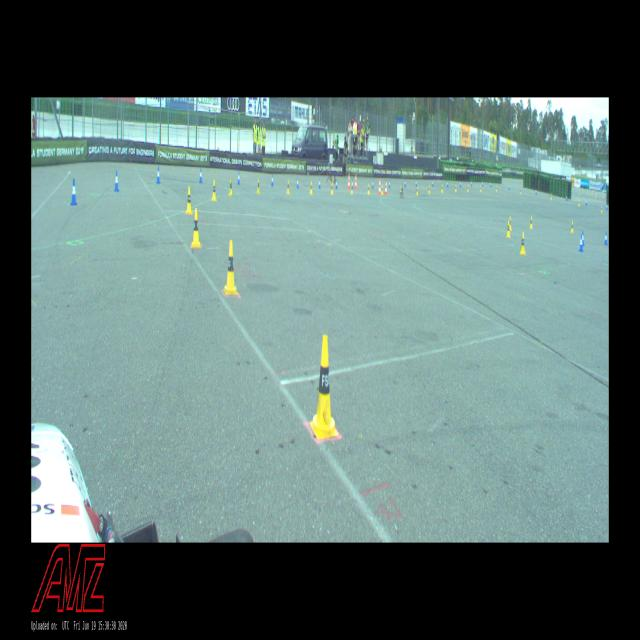blue_cone: (70, 179, 78, 205), (114, 170, 120, 192), (156, 166, 161, 184), (579, 234, 583, 252), (199, 168, 203, 183), (604, 232, 608, 245), (271, 174, 274, 186), (318, 178, 321, 189), (296, 178, 299, 188), (582, 231, 584, 246), (238, 171, 240, 185), (388, 180, 391, 188), (352, 179, 354, 190), (336, 179, 338, 189), (404, 179, 406, 188), (372, 180, 374, 188), (535, 188, 537, 195), (606, 203, 608, 210), (490, 181, 492, 188), (416, 180, 418, 187), (432, 180, 434, 187), (586, 199, 588, 205), (508, 184, 510, 190), (471, 180, 472, 187), (460, 181, 461, 187), (566, 195, 567, 201), (447, 181, 448, 187), (482, 181, 483, 186)
large_orange_cone: (354, 173, 358, 189), (384, 180, 388, 196), (378, 178, 381, 195), (348, 173, 350, 189)
yellow_cone: (310, 335, 338, 438), (223, 240, 238, 295), (191, 208, 201, 248), (185, 187, 192, 214), (520, 232, 526, 254), (211, 180, 217, 201), (229, 178, 233, 196), (506, 221, 510, 238), (286, 180, 290, 194), (529, 216, 533, 229), (257, 178, 260, 194), (570, 221, 574, 233), (331, 182, 334, 195), (509, 217, 512, 230), (367, 184, 370, 195), (310, 181, 312, 194), (381, 184, 383, 196), (351, 183, 353, 194), (428, 185, 430, 194), (441, 184, 443, 193), (416, 187, 418, 196), (454, 184, 456, 192), (578, 199, 580, 207), (467, 185, 469, 192), (550, 193, 552, 200), (601, 206, 602, 213), (480, 185, 481, 192), (496, 185, 497, 192), (520, 188, 521, 194)
